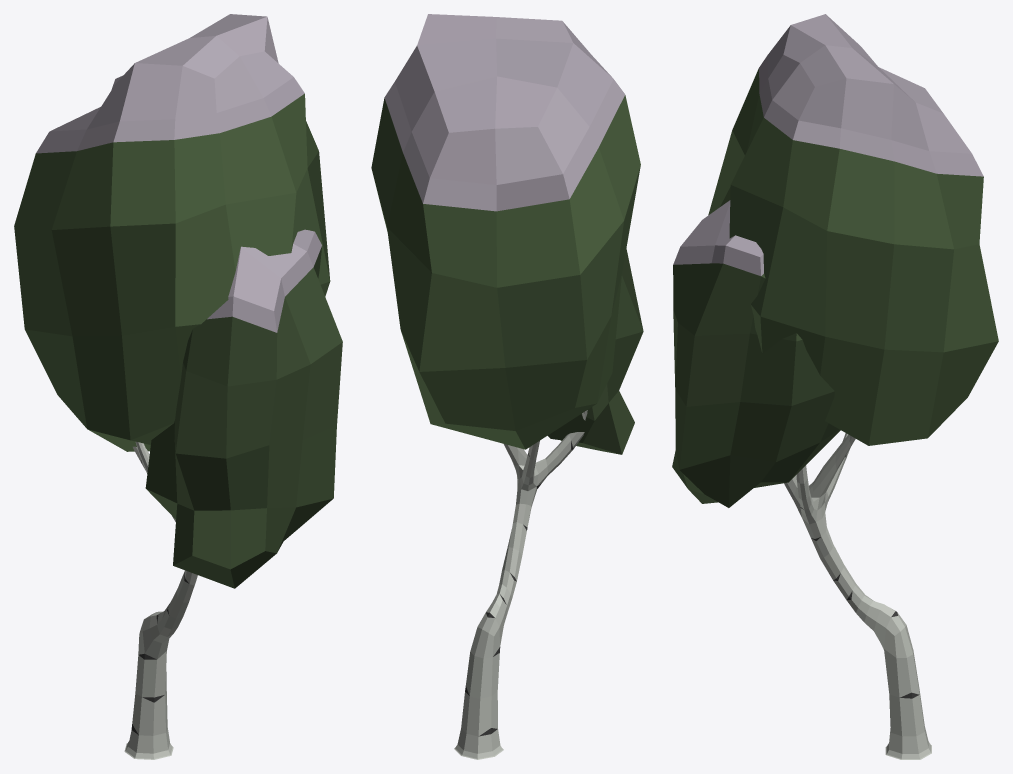
The model's file is birch_snow2.glb.
3 renders of one model, left to right at view 1: azimuth 30°, elevation 25°; view 2: azimuth 150°, elevation 25°; view 3: azimuth 270°, elevation 25°, orthographic. The views are drawn at different scales.
Parts seen in each view (by area): view 1: BirchTree_Snow_2; view 2: BirchTree_Snow_2; view 3: BirchTree_Snow_2.
Part boxes in pixels (x1,y1,x2,y2): BirchTree_Snow_2: (14,14,342,759); BirchTree_Snow_2: (371,14,643,759); BirchTree_Snow_2: (672,14,998,759).
Bounding box in the file's own units: 1.47 × 4.09 × 1.69.
